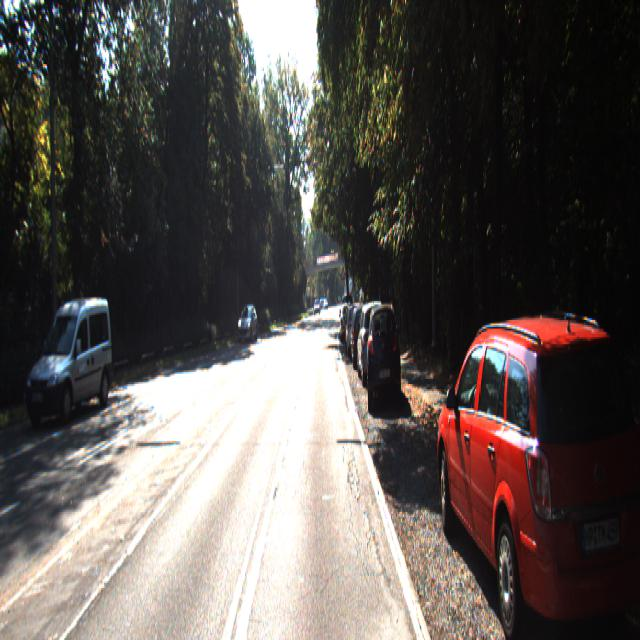Car: (430, 308, 639, 638), (24, 293, 117, 430), (366, 300, 402, 411), (358, 304, 391, 388), (351, 305, 374, 371), (346, 304, 368, 360), (238, 304, 258, 344), (340, 304, 354, 344)
